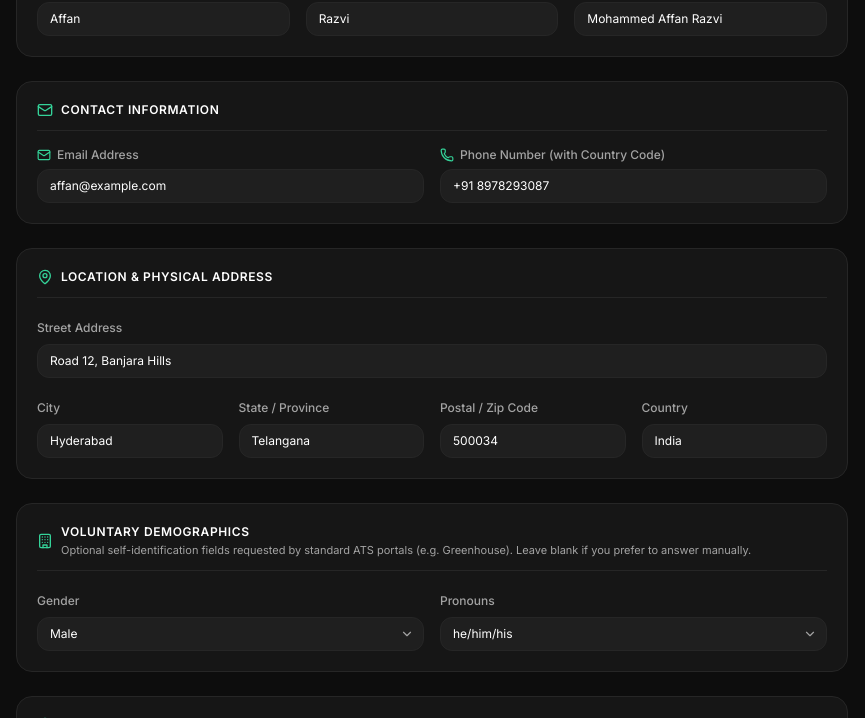
Test: SettingsPage Autofill Configuration & Integrations › submits updated autofill profile to PUT /api/v1/profile/autofill on save
(page scrolled)
Replace the text in the field showing "Road 12, Banjara Hills" below "Street Address" with "789 Tech Boulevard" at (432, 360), box x1=37 y1=344 x2=827 y2=378
(page scrolled)
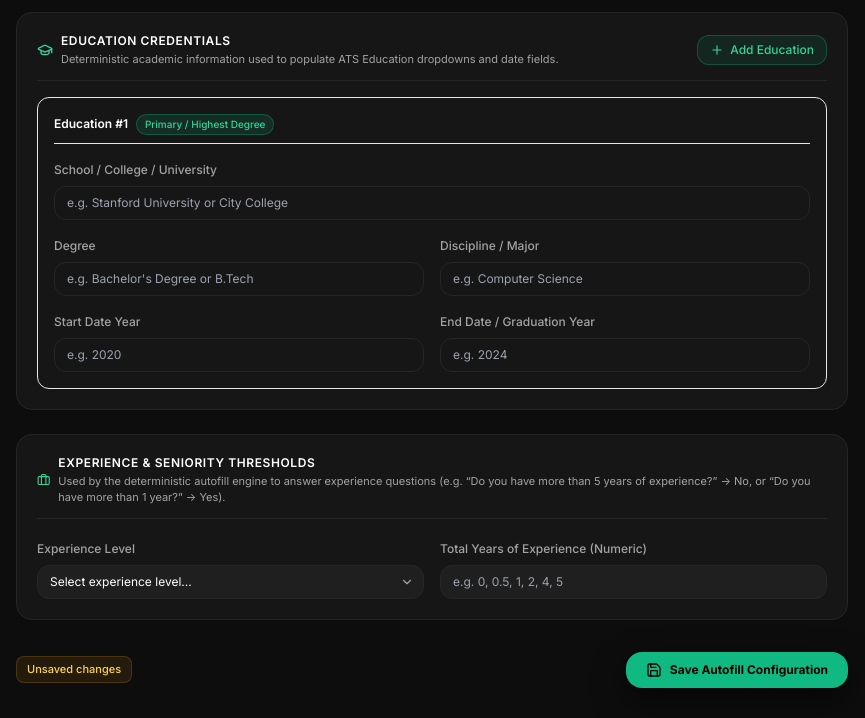
Click the button "Save Autofill Configuration" at (737, 670), box x1=626 y1=652 x2=848 y2=688
(page scrolled)
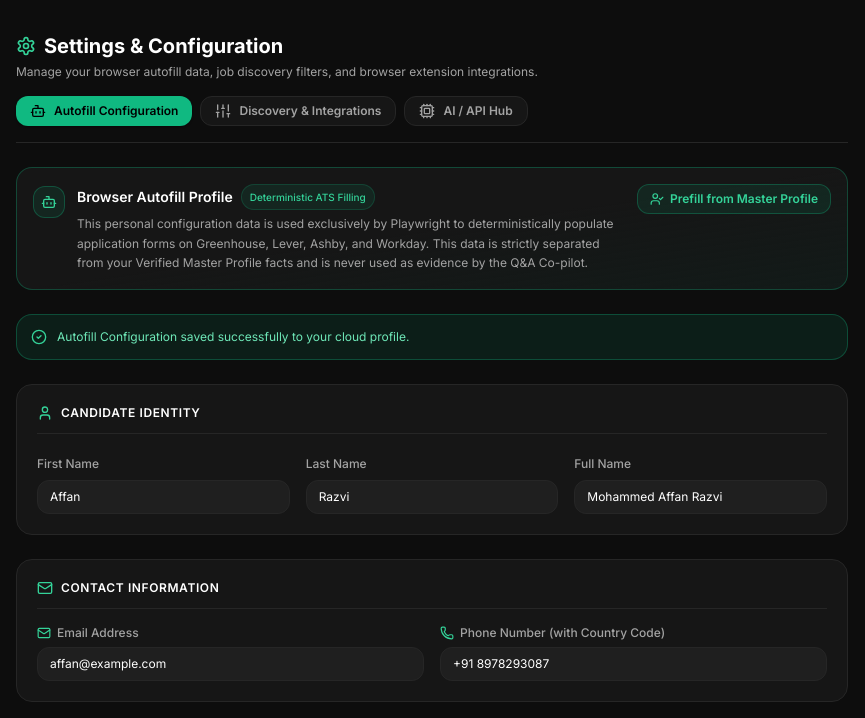
Check: the text "Autofill Configuration saved successfully" is shown, box x1=57 y1=328 x2=409 y2=344
